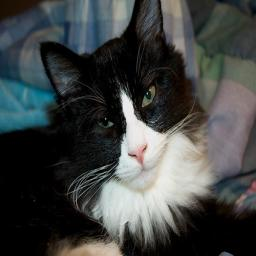catnose: (130, 142, 146, 165)
